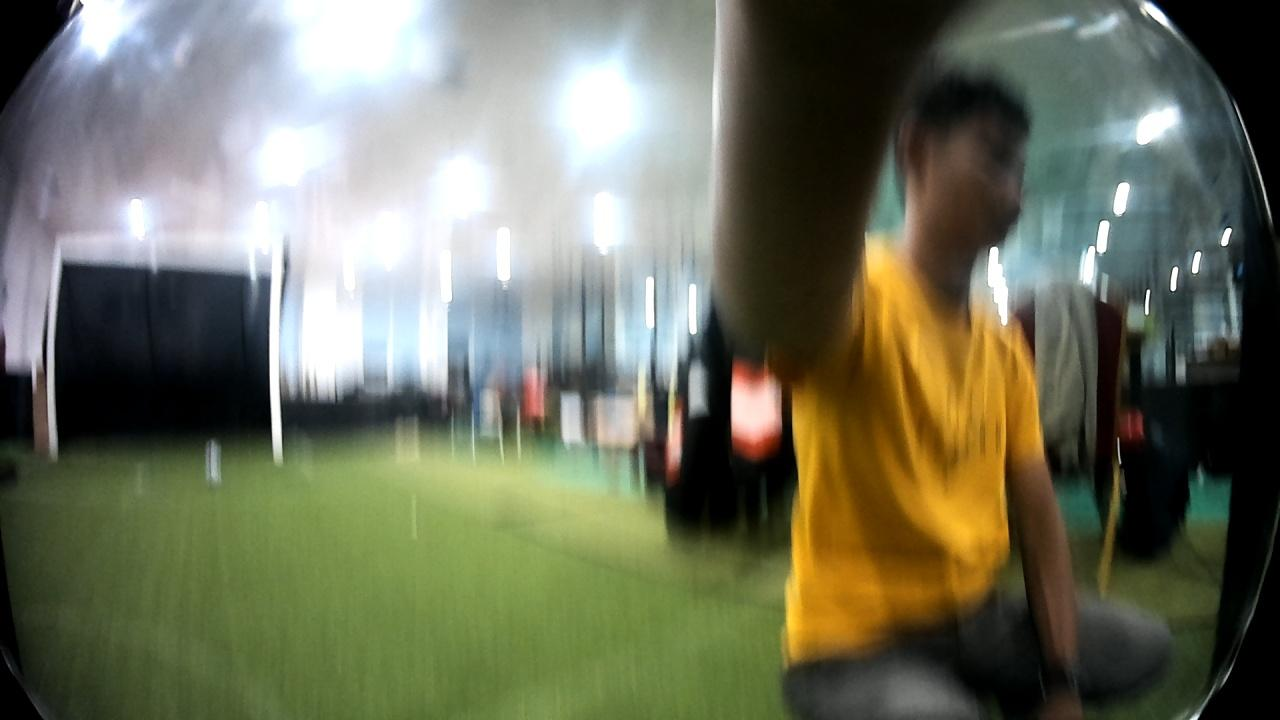ball: (201, 437, 225, 492)
